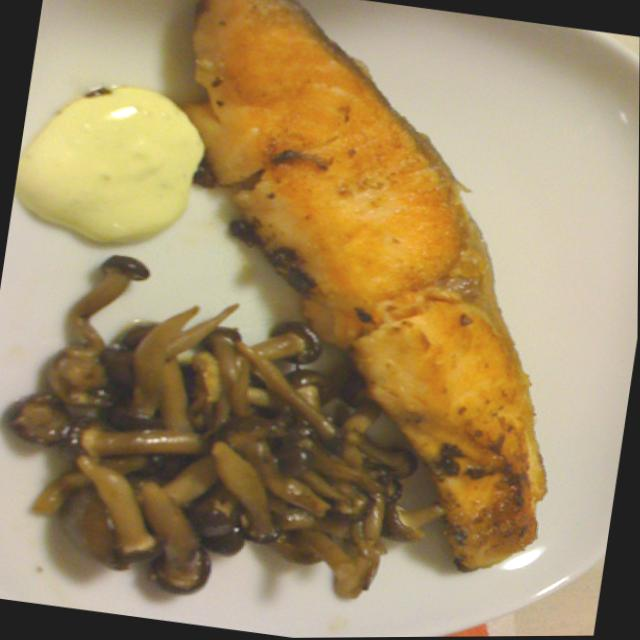熟制海鲜: (102, 0, 640, 592)
